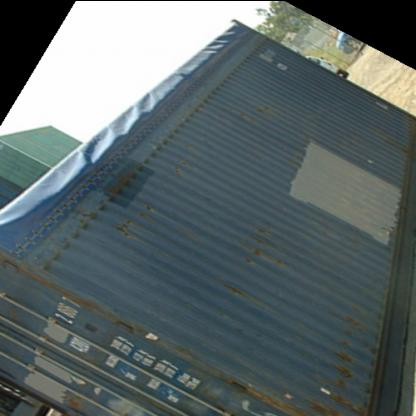Damage: (309, 294, 381, 415), (233, 216, 276, 270), (110, 200, 148, 238), (232, 97, 274, 127), (218, 280, 257, 304)
